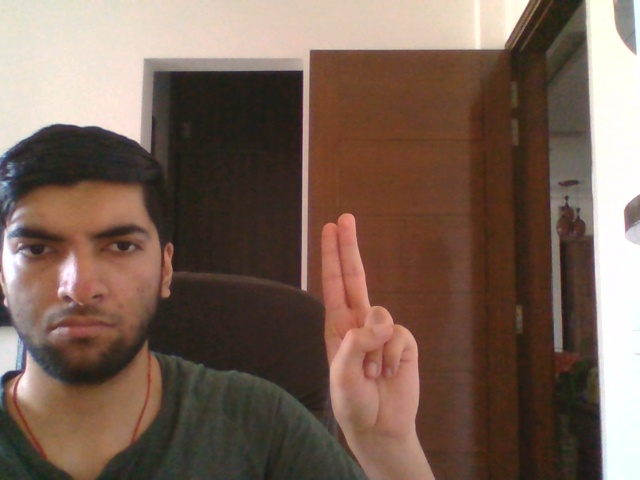LetterU: (319, 209, 422, 439)
